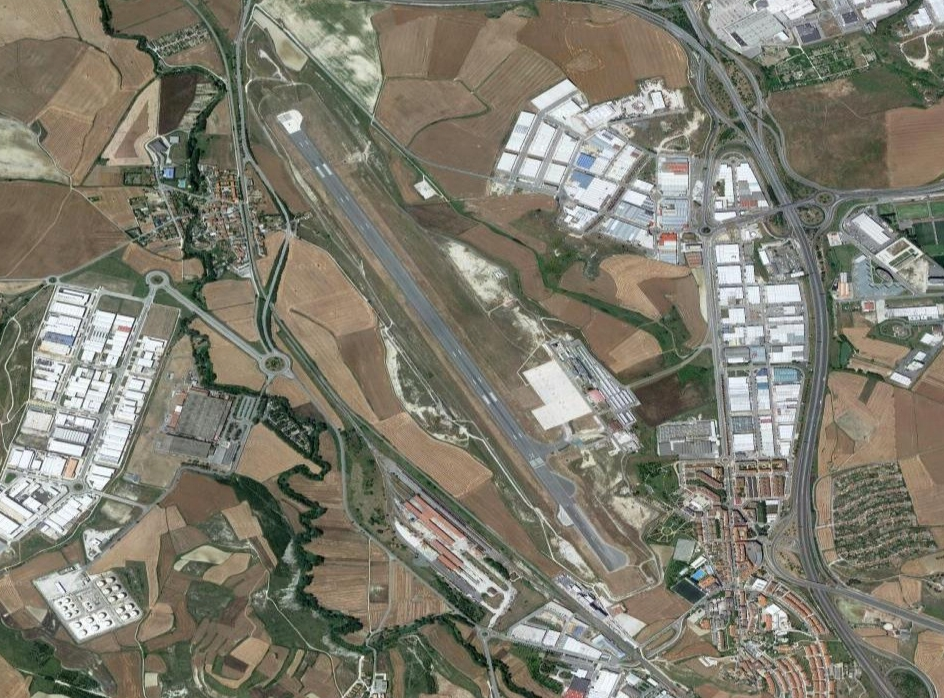airport: (273, 104, 631, 574)
industrial: (1, 289, 155, 552), (499, 67, 703, 258), (705, 187, 807, 455)
motorway: (833, 624, 944, 698), (705, 63, 777, 174), (237, 165, 293, 292), (790, 509, 851, 625), (606, 1, 717, 63), (163, 289, 261, 355), (768, 165, 825, 273), (181, 1, 256, 61), (795, 391, 827, 511), (805, 270, 837, 390), (825, 183, 944, 210), (219, 64, 251, 164)
train_station: (391, 476, 490, 593)
